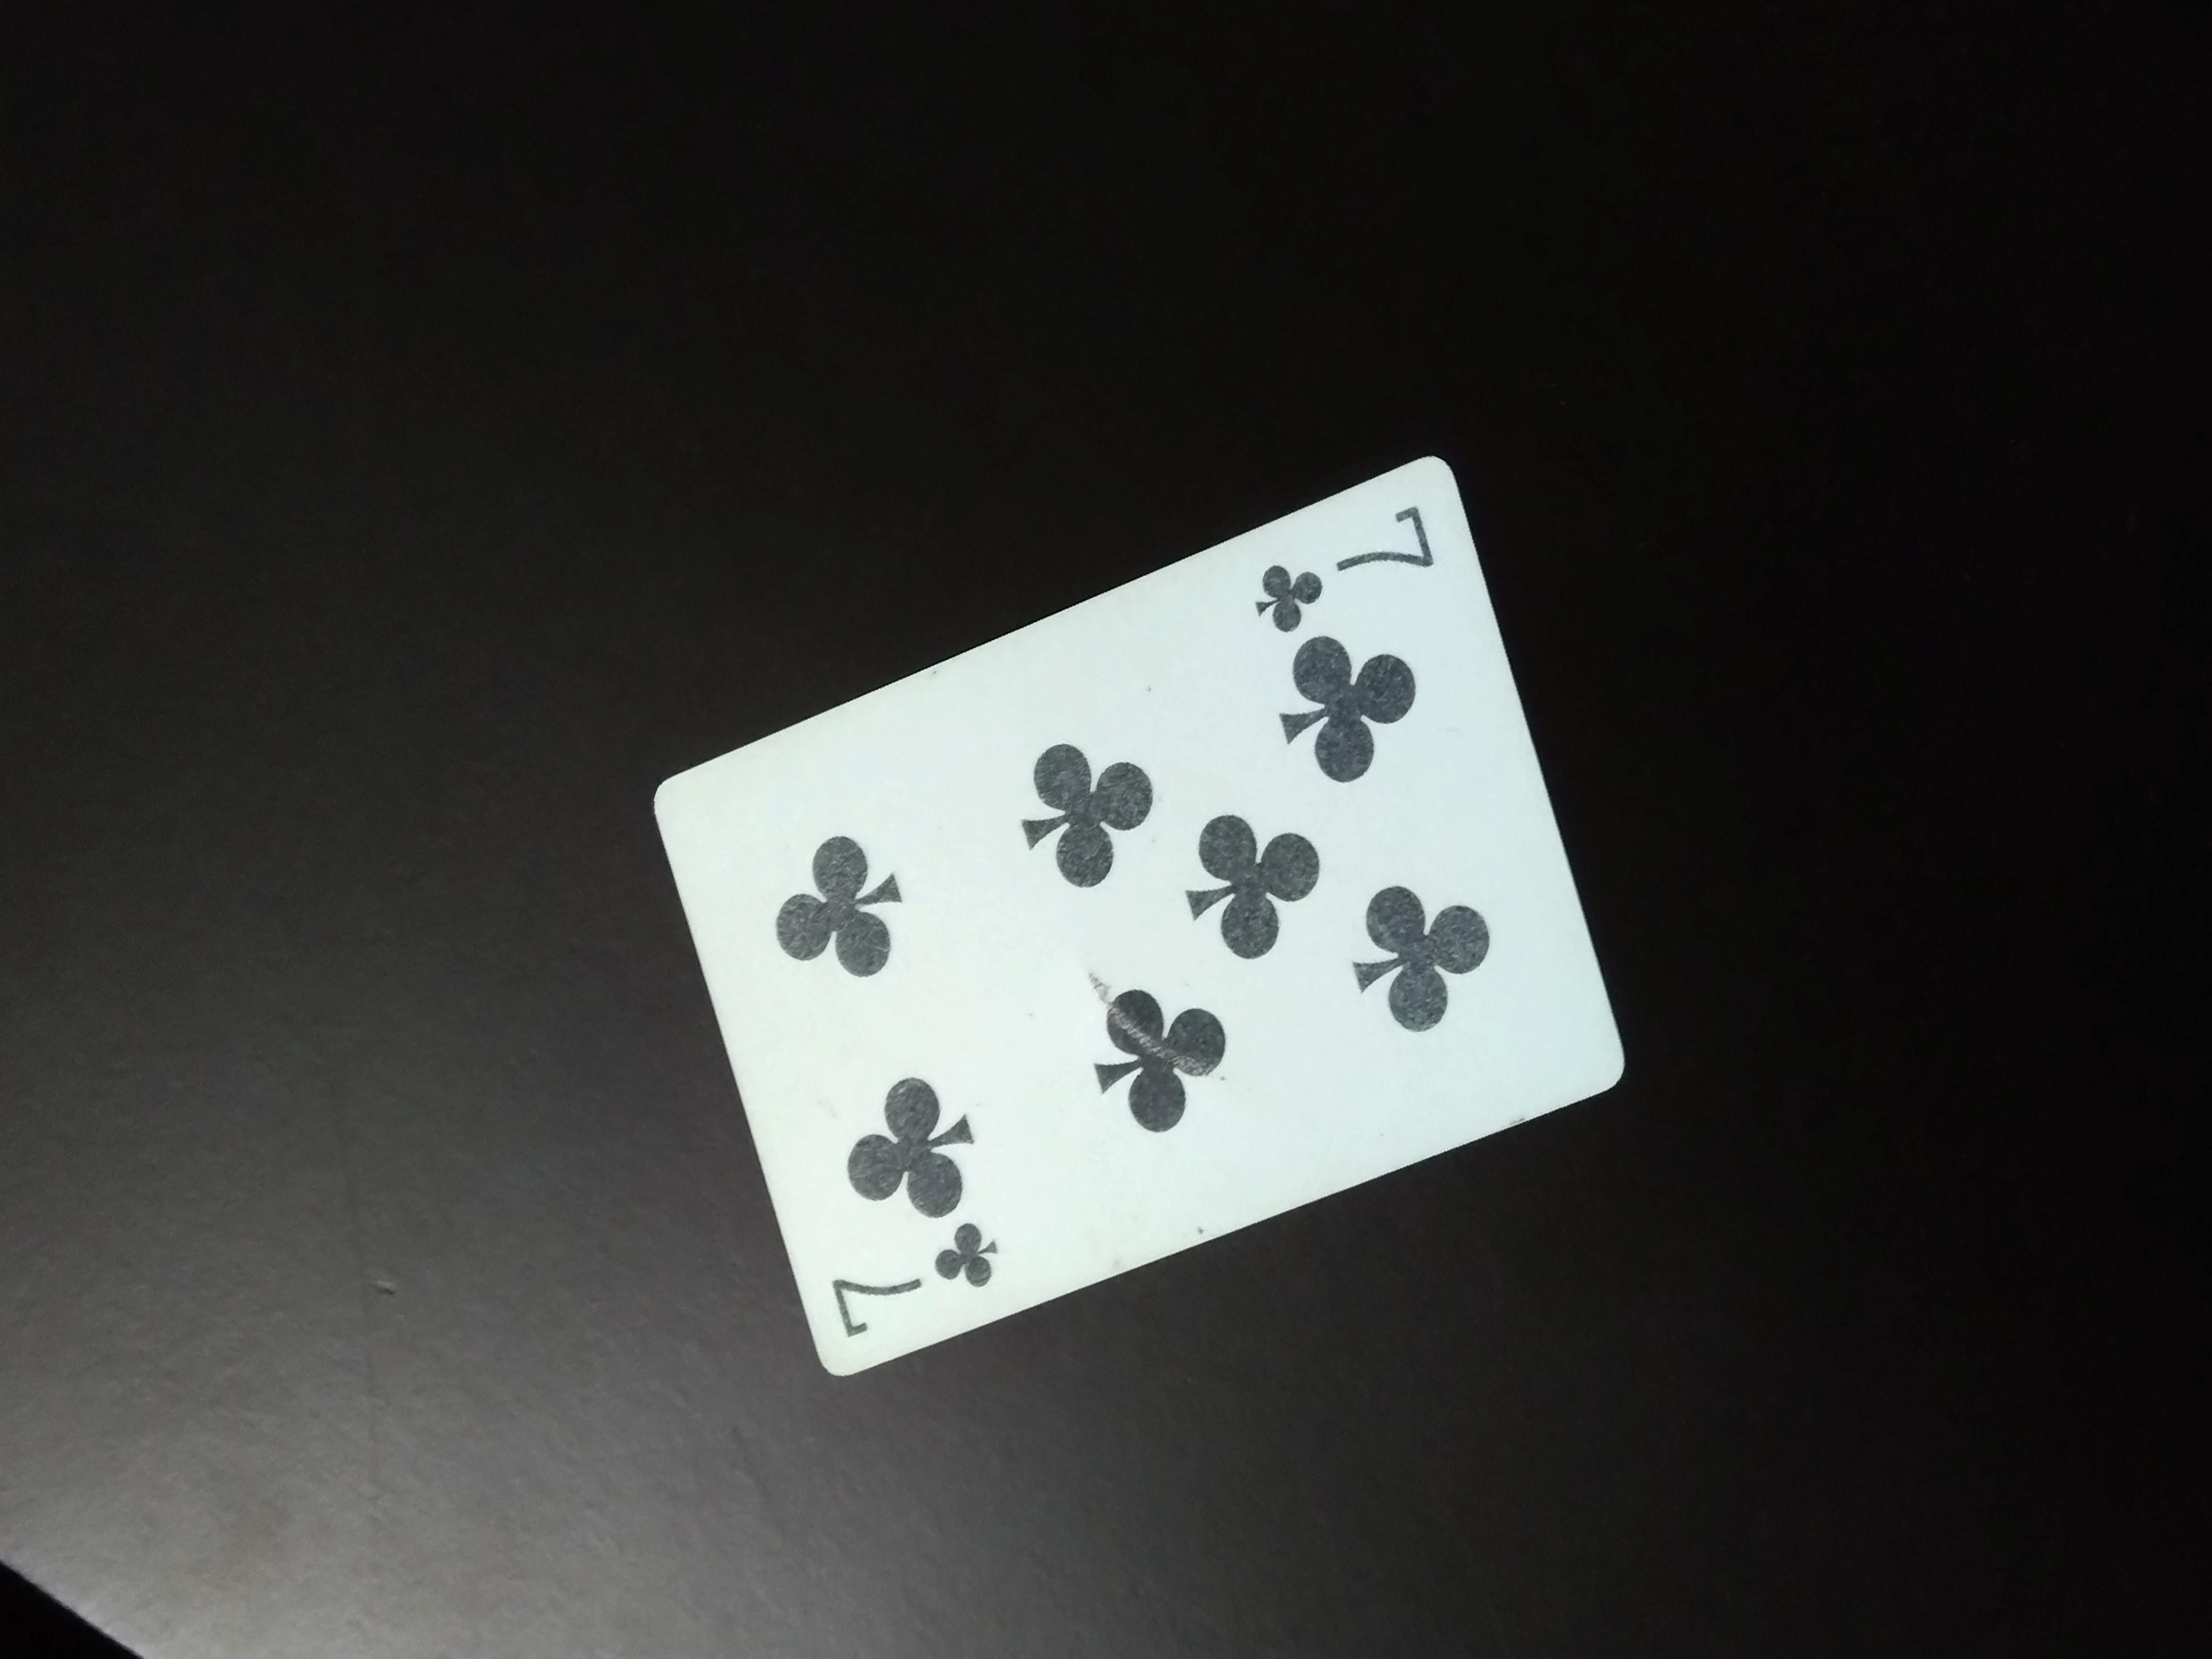7C: (1245, 488, 1442, 648)
